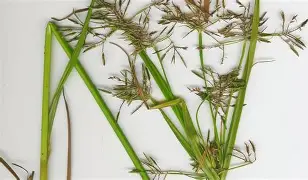weed: (80, 7, 282, 180)
